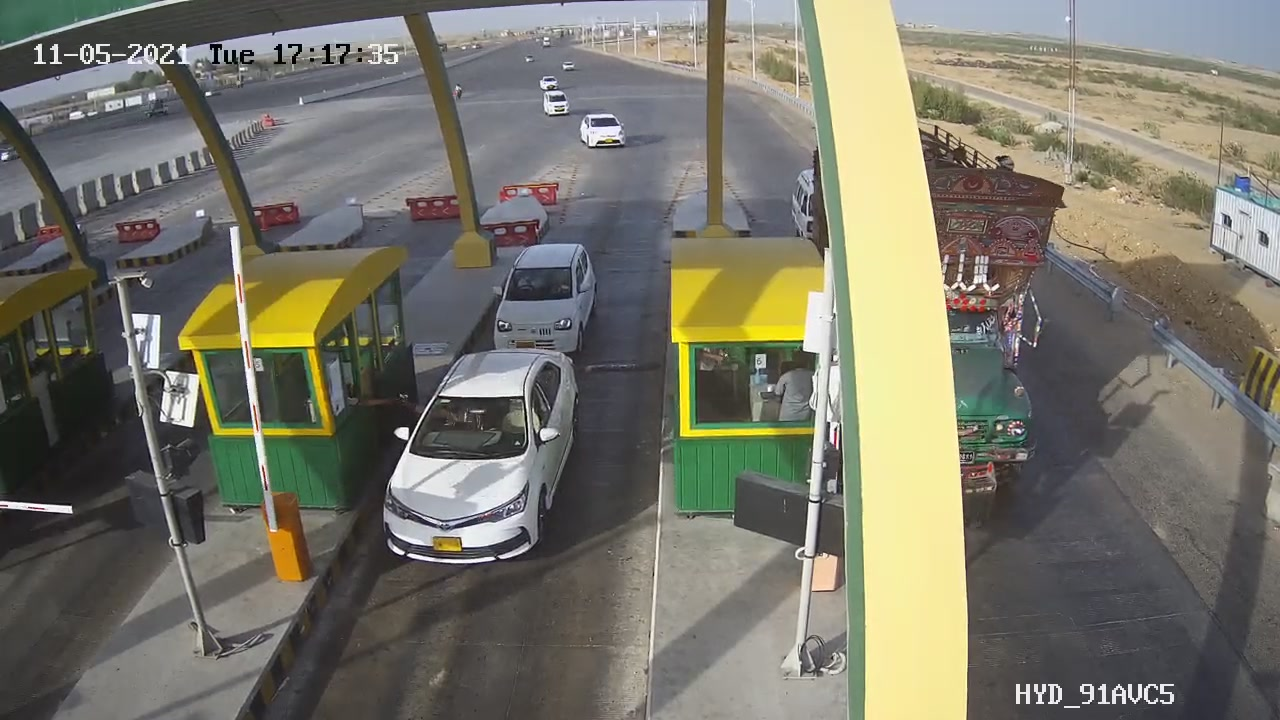F1: (370, 339, 599, 574), (481, 234, 616, 365)
